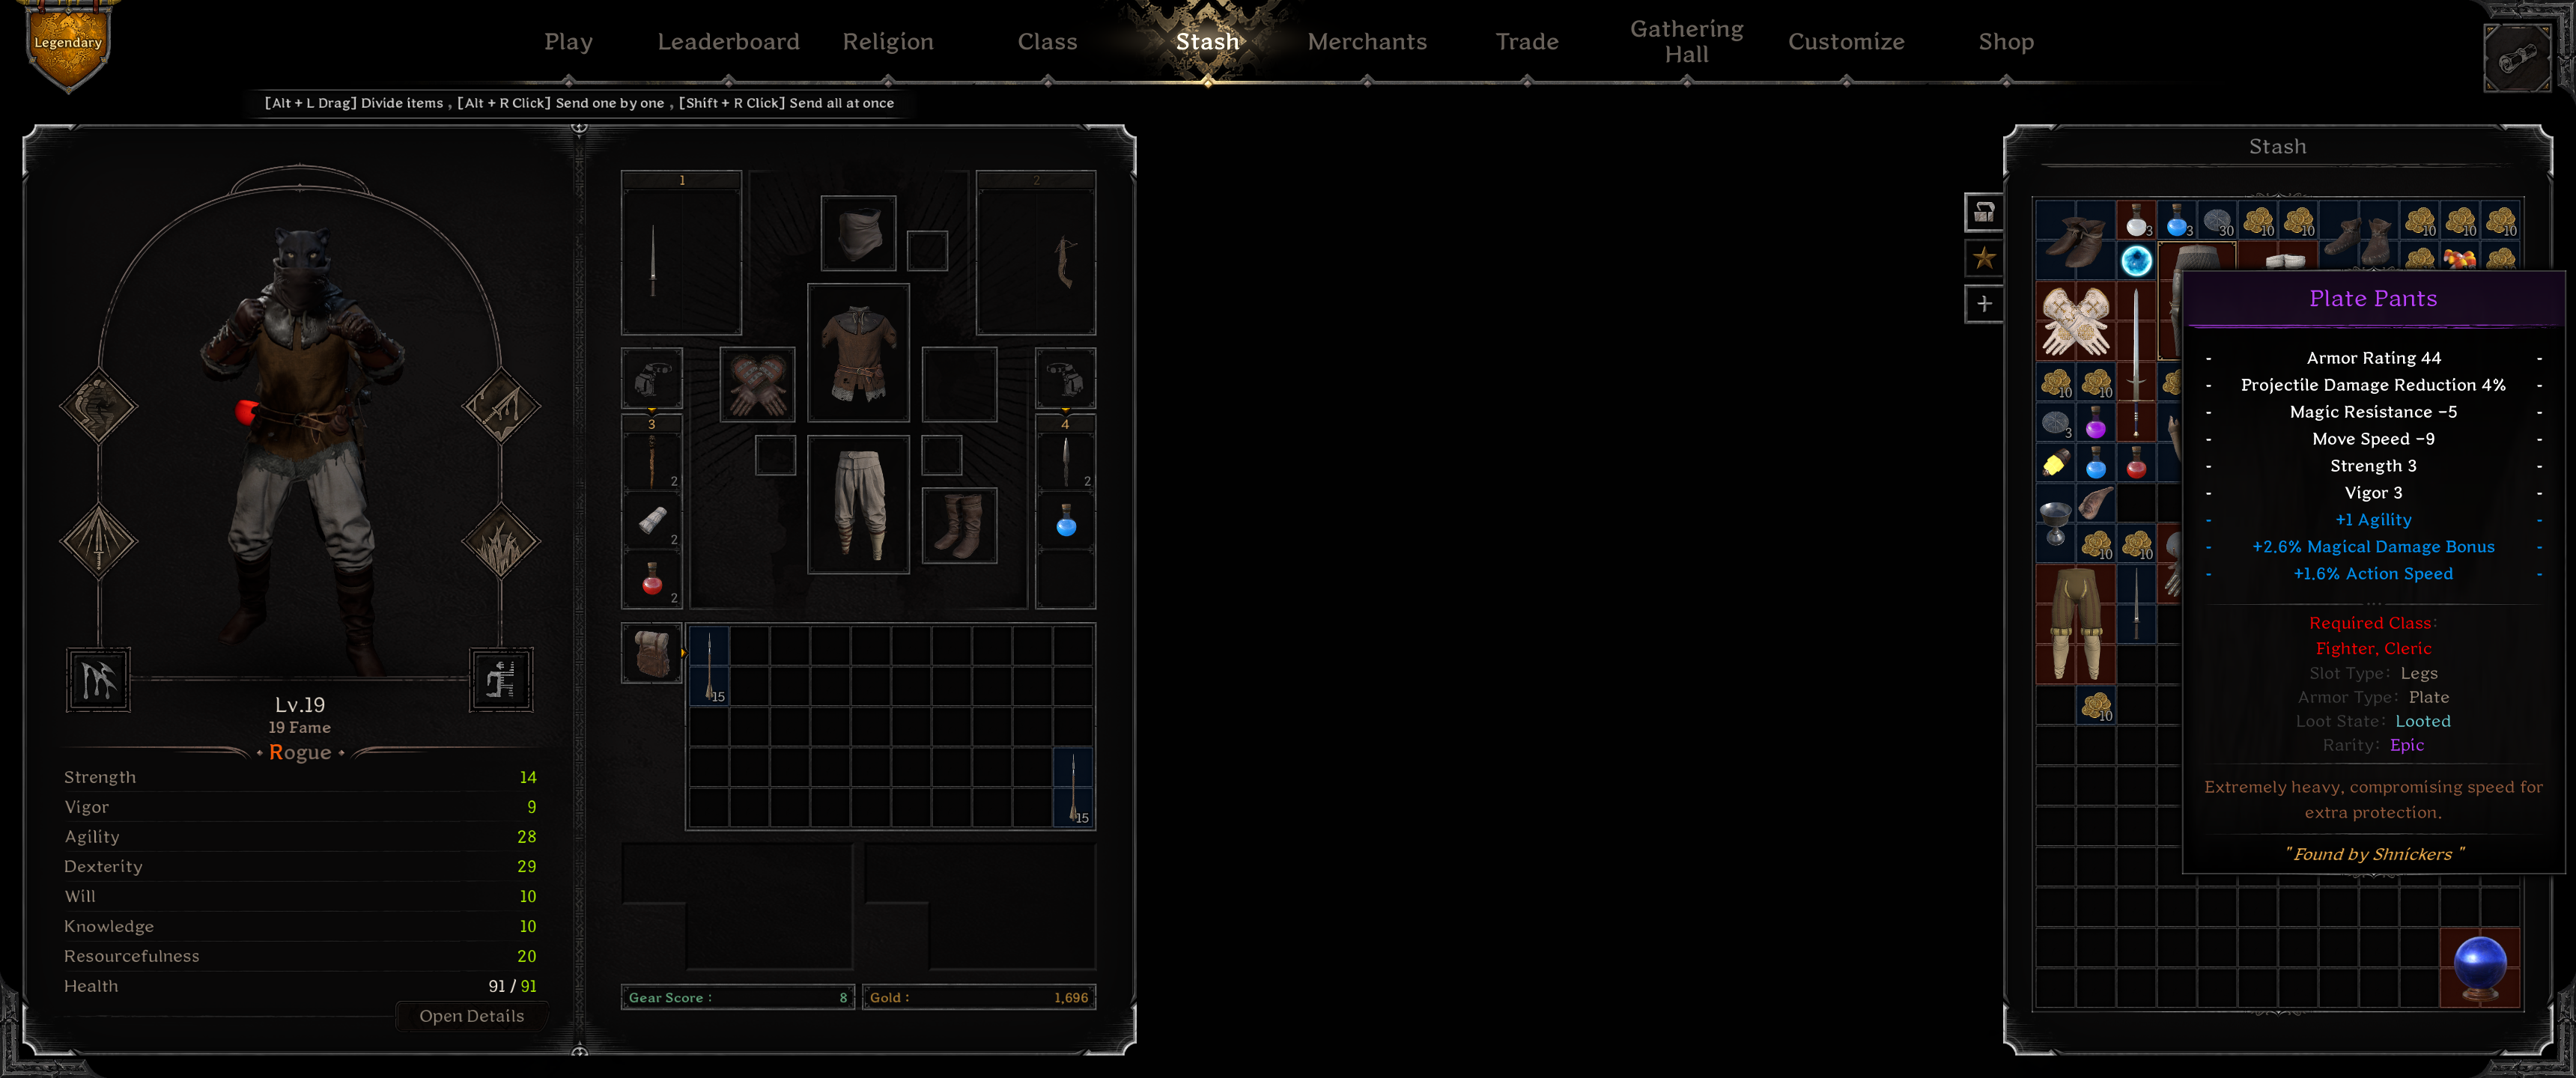Tooltip: (2182, 269, 2568, 876)
